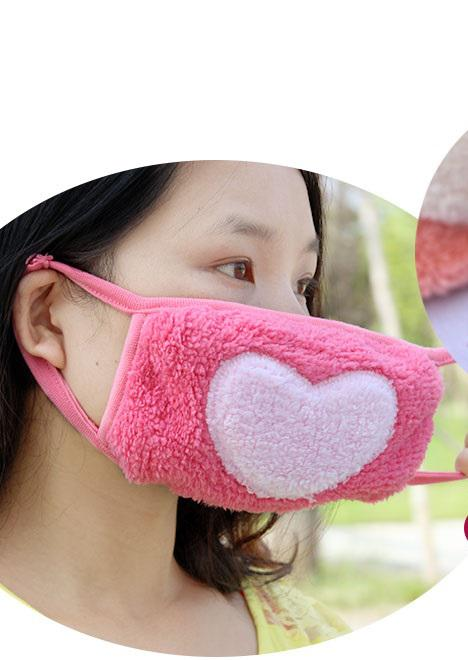WRONG: (90, 212, 377, 499)
